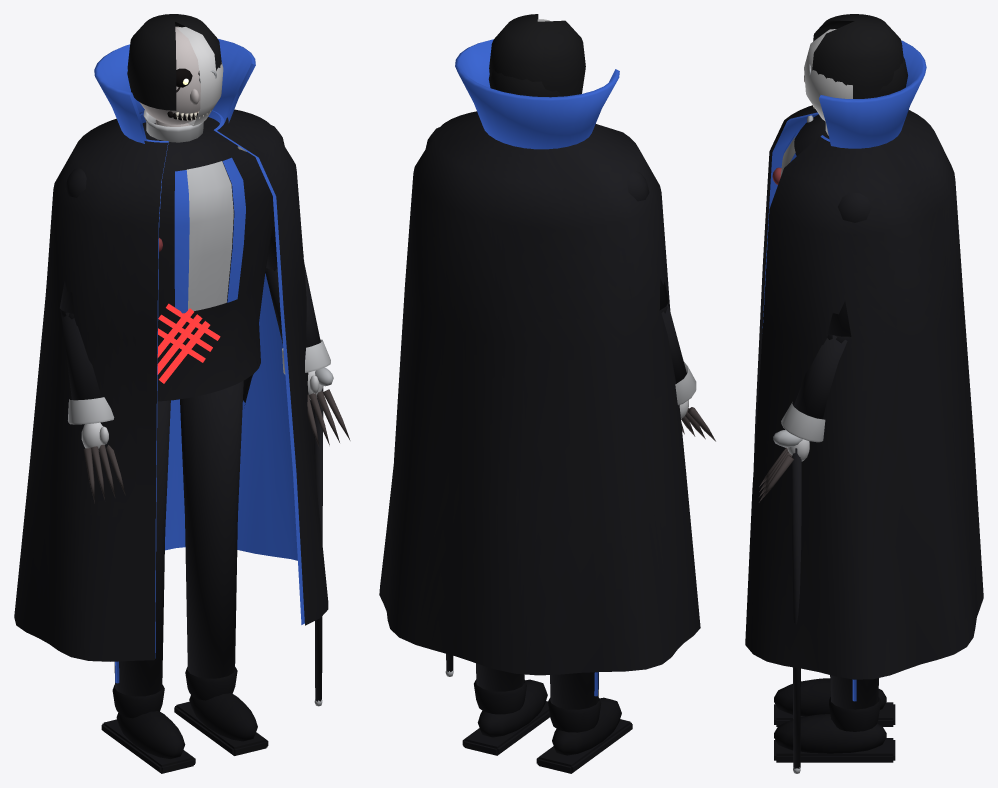
Rendered from masked_patron.glb.
3 views of the same model, side by side, from view 1: azimuth 30°, elevation 25°; view 2: azimuth 150°, elevation 25°; view 3: azimuth 270°, elevation 25° (orthographic).
Parts seen in each view (by area): view 1: Cape, Tail_SapphireSatin, Patron_Root_EveningBlack, LegLegB, Patron_Root_DressShirt, Head_SlickHair, LegB_PatentShoe, LegA_PatentShoe, LegLegA, Patron_Root_SapphireSatin, ArmB_EveningBlack, ArmA_EveningBlack (+8 smaller); view 2: Cape, Tail_SapphireSatin, Head_SlickHair, LegA_PatentShoe, LegB_PatentShoe, LegLegA, ArmA_EveningBlack, LegLegB; view 3: Cape, Head_SlickHair, Tail_SapphireSatin, ArmB_EveningBlack, LegB_PatentShoe, LegA_PatentShoe, HalfMask, LegLegB, CuffArmB, Patron_Root_EveningBlack, ArmB_HClaw.
Boxes of the visible parts, <box> form: Cape: <box>14,109,328,661</box>; Tail_SapphireSatin: <box>94,39,304,658</box>; Patron_Root_EveningBlack: <box>142,117,273,405</box>; LegLegB: <box>180,381,243,678</box>; Patron_Root_DressShirt: <box>143,110,233,310</box>; Head_SlickHair: <box>127,14,221,110</box>; LegB_PatentShoe: <box>174,667,268,755</box>; LegA_PatentShoe: <box>101,684,195,773</box>; LegLegA: <box>114,400,170,696</box>; Patron_Root_SapphireSatin: <box>174,157,245,313</box>; ArmB_EveningBlack: <box>265,125,323,701</box>; ArmA_EveningBlack: <box>59,168,101,400</box>; Cape: <box>379,111,700,675</box>; Tail_SapphireSatin: <box>455,39,619,149</box>; Head_SlickHair: <box>488,14,585,97</box>; LegA_PatentShoe: <box>536,697,632,773</box>; LegB_PatentShoe: <box>462,679,549,755</box>; LegLegA: <box>550,672,598,709</box>; ArmA_EveningBlack: <box>627,171,686,383</box>; LegLegB: <box>476,663,524,691</box>; Cape: <box>745,105,983,679</box>; Head_SlickHair: <box>812,14,907,98</box>; Tail_SapphireSatin: <box>762,40,926,327</box>; ArmB_EveningBlack: <box>792,193,871,768</box>; LegB_PatentShoe: <box>774,697,895,762</box>; LegA_PatentShoe: <box>774,675,895,726</box>; HalfMask: <box>804,29,852,121</box>; LegLegB: <box>830,675,878,709</box>; CuffArmB: <box>781,402,825,442</box>; Patron_Root_EveningBlack: <box>794,114,829,155</box>; ArmB_HClaw: <box>759,447,793,502</box>.
Bounding box in the file's own units: 0.7488 × 1.77 × 0.5362.
